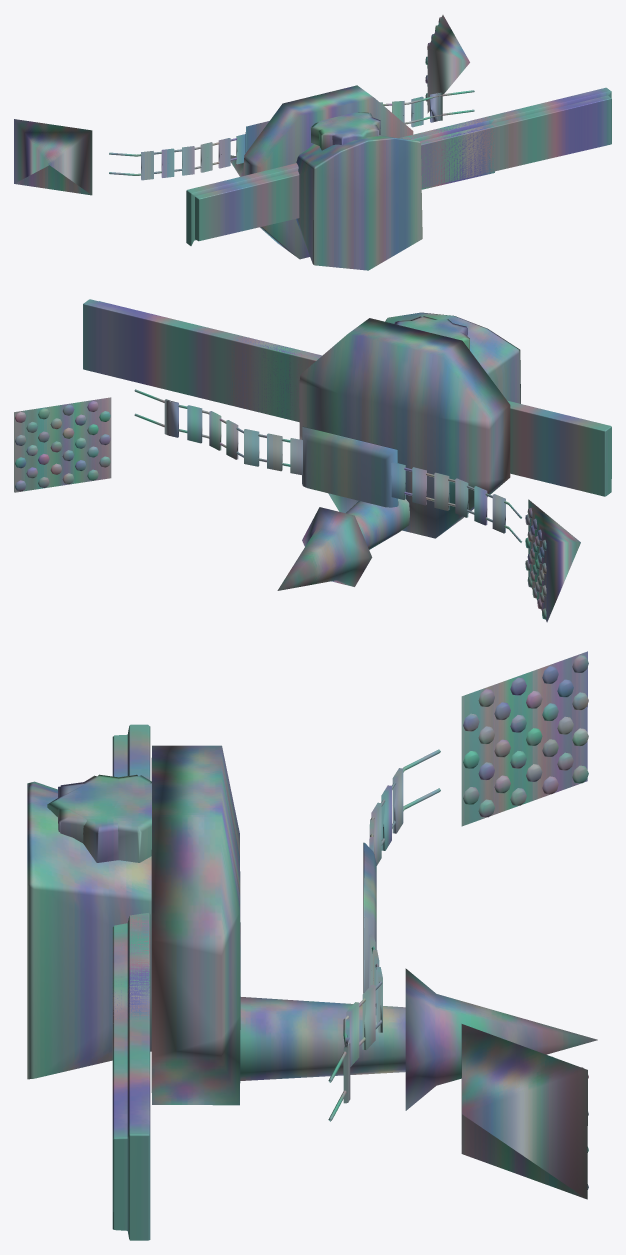
Rendered from transition_temporary.dae.
3 views of the same model, one above another, from view 1: azimuth 30°, elevation 25°; view 2: azimuth 150°, elevation 25°; view 3: azimuth 270°, elevation 25° (orthographic). The views are drawn at different scales.
Parts seen in each view (by area): view 1: Mario_CastleShape64, gimmickOFF_hideShape, gimmickON_hideShape; view 2: Mario_CastleShape64, gimmickOFF_hideShape, gimmickON_hideShape; view 3: Mario_CastleShape64, gimmickOFF_hideShape, gimmickON_hideShape.
Boxes of the visible parts, left/top/right/bottom form: Mario_CastleShape64: left=14, top=15, right=474, bottom=270; gimmickOFF_hideShape: left=310, top=87, right=611, bottom=187; gimmickON_hideShape: left=186, top=116, right=494, bottom=245; Mario_CastleShape64: left=14, top=312, right=580, bottom=622; gimmickOFF_hideShape: left=83, top=299, right=467, bottom=422; gimmickON_hideShape: left=228, top=319, right=611, bottom=496; Mario_CastleShape64: left=27, top=651, right=597, bottom=1199; gimmickOFF_hideShape: left=58, top=774, right=151, bottom=1240; gimmickON_hideShape: left=47, top=724, right=151, bottom=1021.
Size of the model in its own units: 248 by 127 by 77.29.
1 material, 1 textured.
